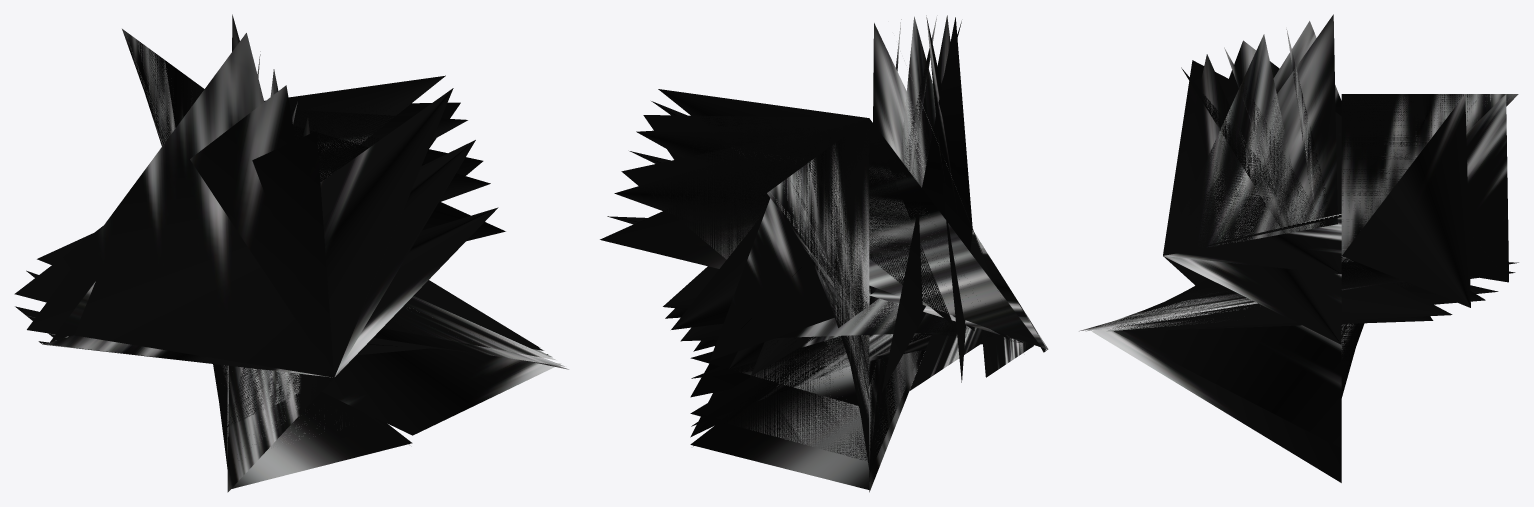
Rendered from datan_common_sp_violet_e2b89856.obj.
3 renders of one model, left to right at view 1: azimuth 30°, elevation 25°; view 2: azimuth 150°, elevation 25°; view 3: azimuth 270°, elevation 25°, orthographic. The views are drawn at different scales.
Parts seen in each view (by area): view 1: datan_common_sp_violet_e2b89856; view 2: datan_common_sp_violet_e2b89856; view 3: datan_common_sp_violet_e2b89856.
Boxes of the visible parts, x1,y1,x2,y2 form: datan_common_sp_violet_e2b89856: (14, 14, 568, 492); datan_common_sp_violet_e2b89856: (600, 15, 1048, 492); datan_common_sp_violet_e2b89856: (1079, 14, 1518, 482).
Bounding box in the file's own units: 2.51 × 2.49 × 2.48.
Materials: 1 (1 with a texture image).
